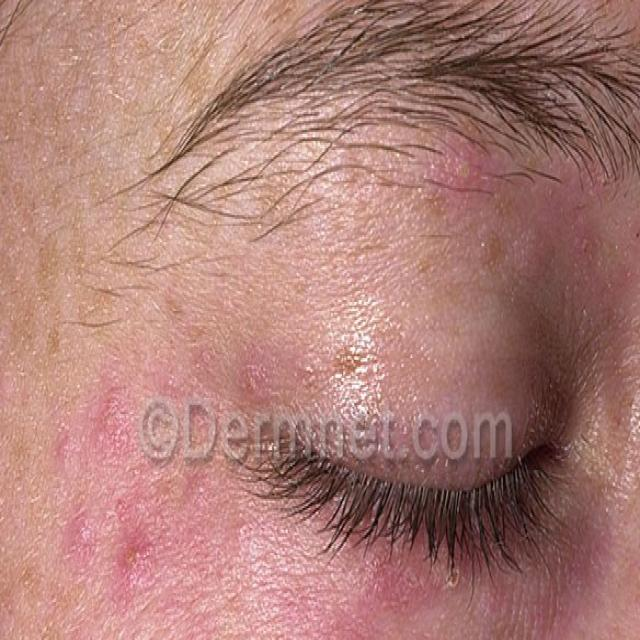Acne: (104, 511, 168, 608), (437, 129, 492, 217), (93, 371, 137, 475), (42, 405, 89, 488), (57, 522, 105, 572)
